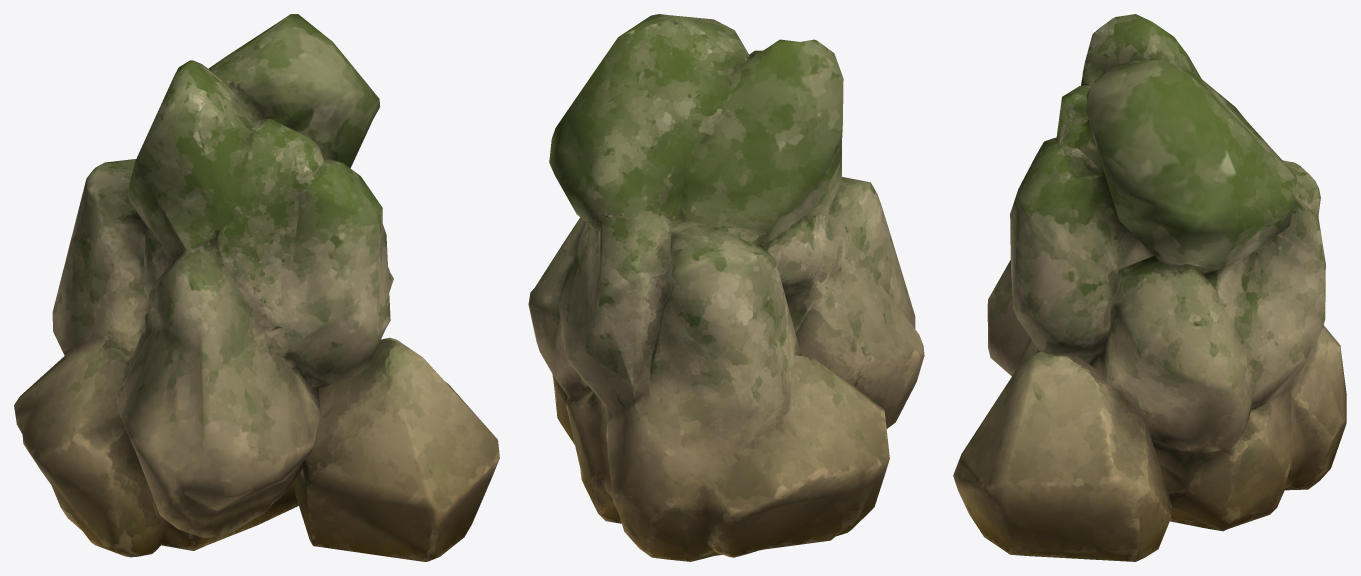
The model's file is stylized_watercolor_rocks.glb.
3 renders of one model, left to right at view 1: azimuth 30°, elevation 25°; view 2: azimuth 150°, elevation 25°; view 3: azimuth 270°, elevation 25°, orthographic. The views are drawn at different scales.
Visible parts, largest first — view 1: Cliff1_Low; view 2: Cliff1_Low; view 3: Cliff1_Low.
Boxes of the visible parts, <box> form: Cliff1_Low: <box>14,14,499,561</box>; Cliff1_Low: <box>528,14,924,561</box>; Cliff1_Low: <box>953,14,1346,561</box>.
Bounding box in the file's own units: 12.93 × 15.72 × 12.52.
Materials: 1 (1 with a texture image).
